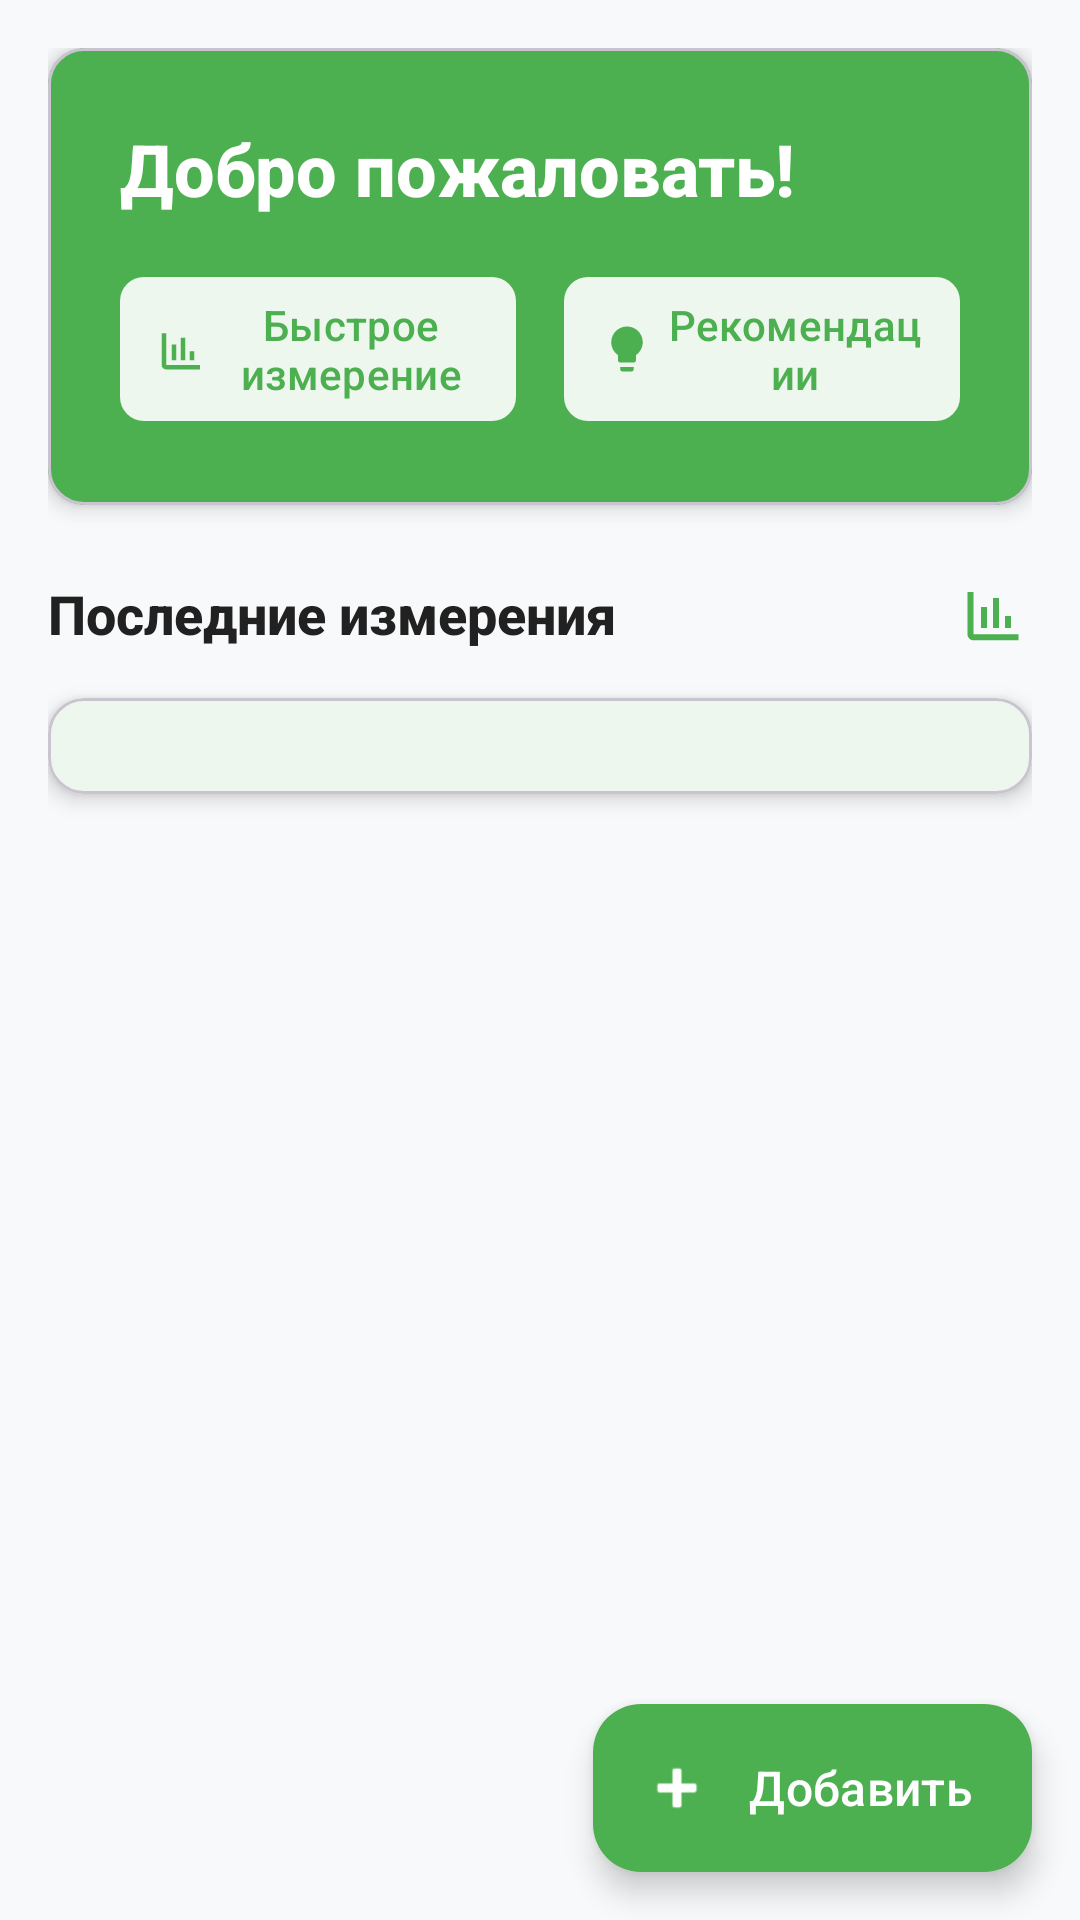

Where icons sit on this 1080 × 1920 app screen, as (x1, y1, x2, y2):
chart: (967, 592, 1019, 641)
